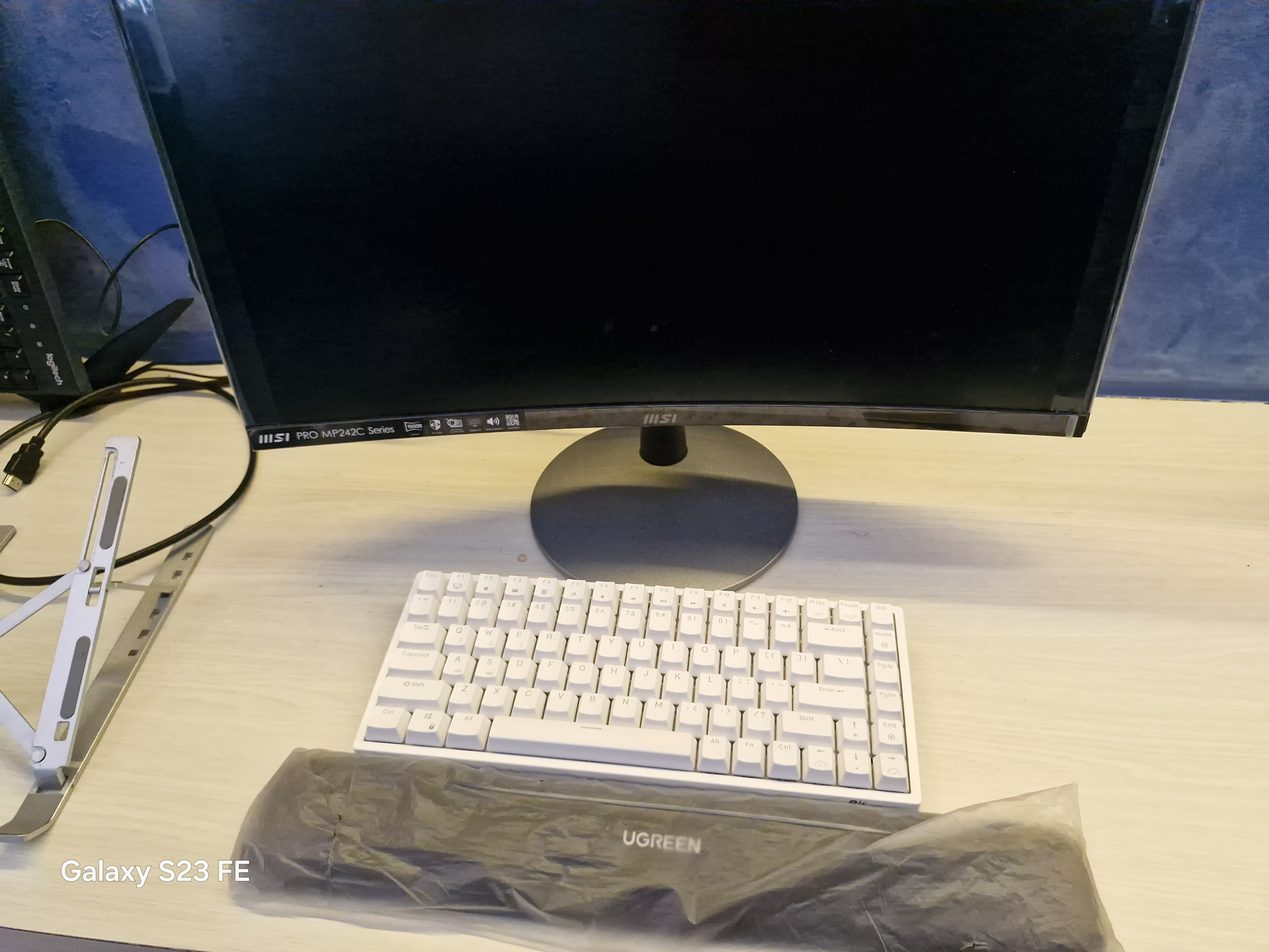keyboard: (355, 570, 919, 811), (0, 226, 77, 396)
table-merged: (0, 381, 1268, 951)
tv: (115, 0, 1198, 588)
wall-other-merged: (0, 0, 190, 380), (1105, 0, 1268, 392)
